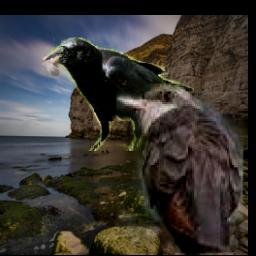Crow: (43, 38, 195, 152)
Cuckoo: (117, 84, 244, 254)
